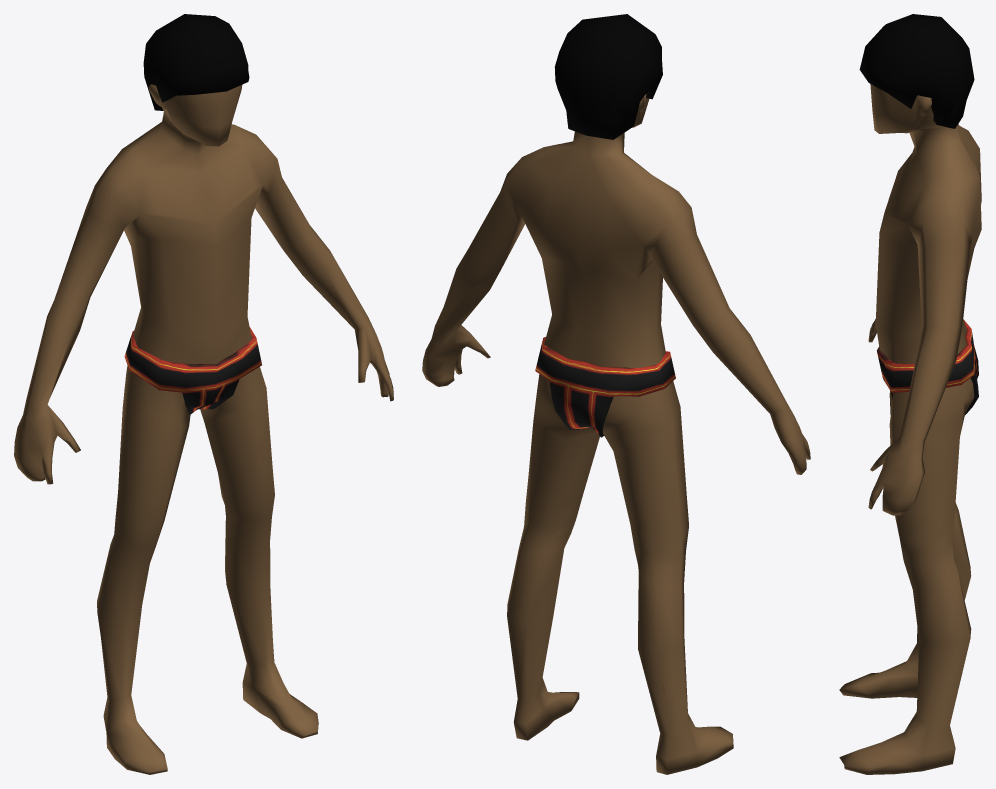
Rendered from MAGITING KID.fbx.
The picture shows the model from 3 angles, left to right: view 1: azimuth 30°, elevation 25°; view 2: azimuth 150°, elevation 25°; view 3: azimuth 270°, elevation 25°; orthographic projection. The views are drawn at different scales.
Parts seen in each view (by area): view 1: MagitingKid, MagitingKid Hair, Plane.011; view 2: MagitingKid, MagitingKid Hair, Plane.011; view 3: MagitingKid, MagitingKid Hair, Plane.011.
Part boxes in pixels (x1,y1,x2,y2): MagitingKid: (14, 84, 393, 774); MagitingKid Hair: (143, 14, 249, 110); Plane.011: (124, 327, 261, 414); MagitingKid: (422, 94, 810, 774); MagitingKid Hair: (554, 14, 662, 139); Plane.011: (535, 337, 675, 437); MagitingKid: (839, 84, 981, 774); MagitingKid Hair: (859, 14, 974, 128); Plane.011: (877, 320, 978, 414).
Bounding box in the file's own units: 124 × 226 × 41.19.
3 materials, 3 textured.
